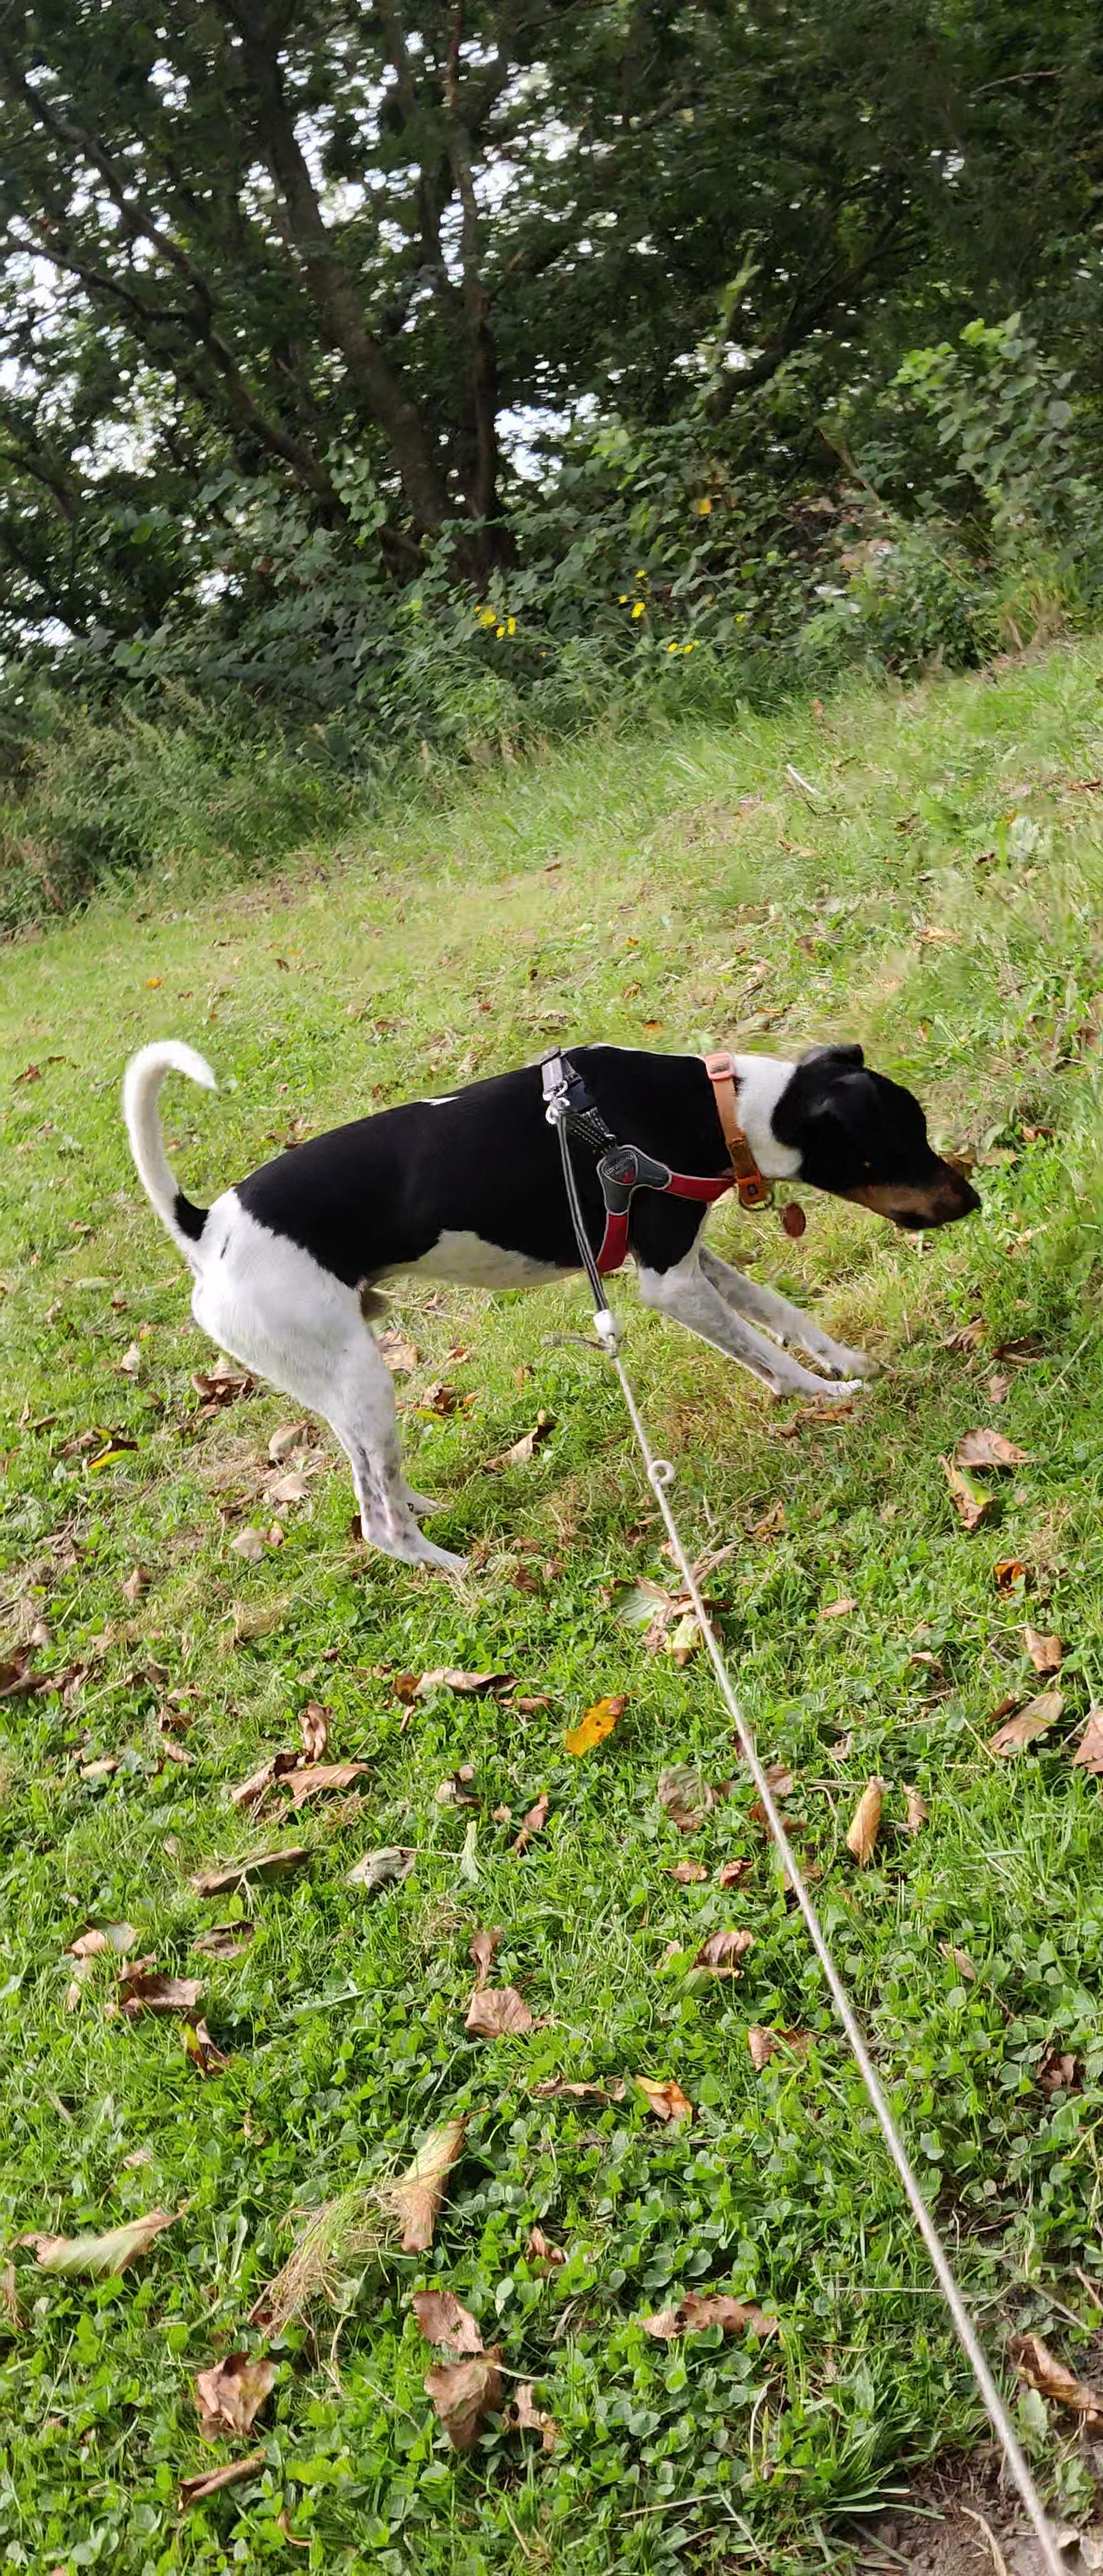Dog: (108, 1015, 996, 1584)
